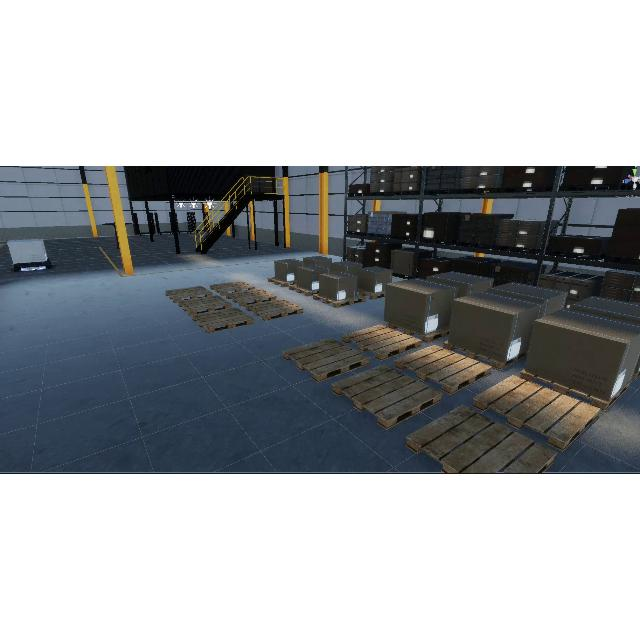wooden_pallet: (520, 369, 632, 412), (442, 340, 529, 370), (386, 322, 450, 343), (313, 293, 367, 308), (288, 285, 320, 297), (267, 276, 297, 288), (357, 288, 386, 300)
